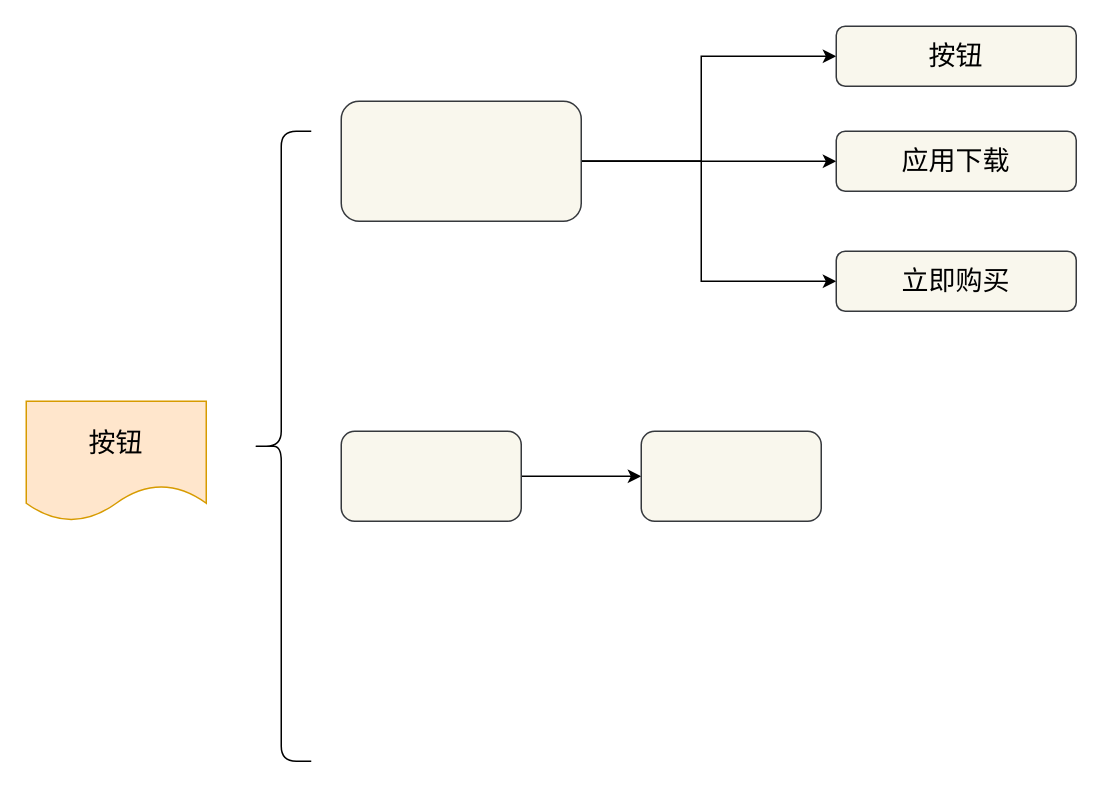
Image size: 1103x788. Some labels were removed from this diagram. Each missing label, with the centre of its shape:
"原来的悬浮按钮 UI优化" goes at point (460, 160).
"微信按钮 UE添加校验" goes at point (430, 475).
